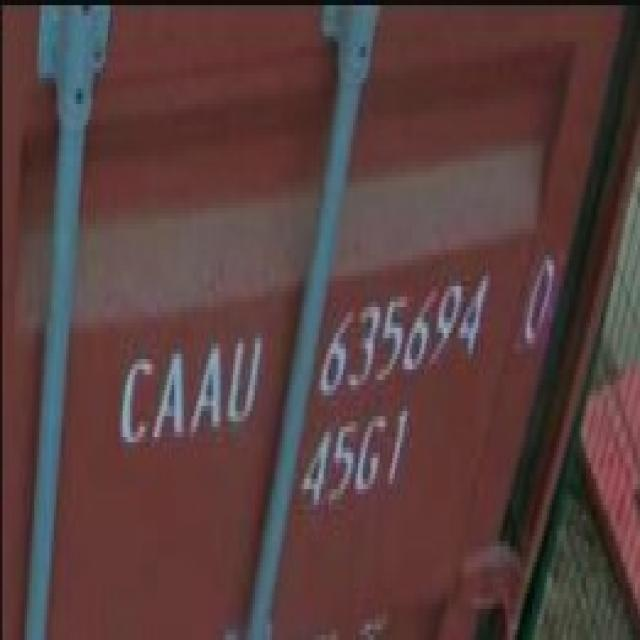dv: (516, 246, 557, 352)
owner: (117, 320, 267, 456)
serial: (317, 268, 491, 399)
size: (293, 403, 414, 516)
